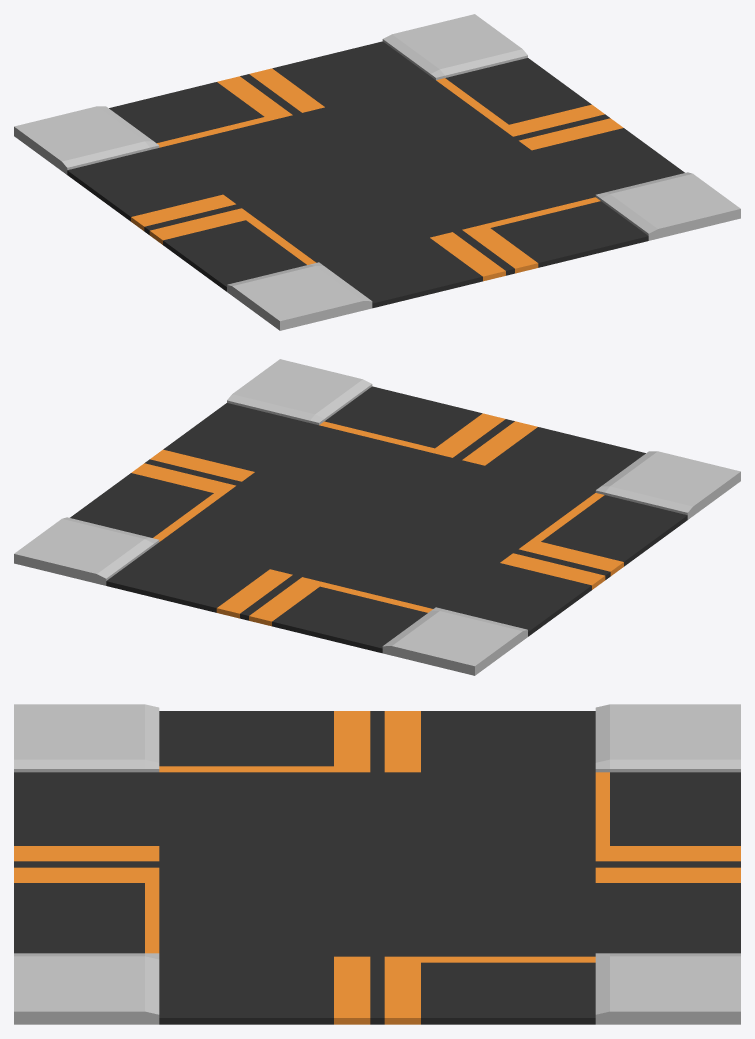
Rendered from Road_FourWay.fbx.
3 views of the same model, one above another, from view 1: azimuth 30°, elevation 25°; view 2: azimuth 150°, elevation 25°; view 3: azimuth 270°, elevation 25° (orthographic). The views are drawn at different scales.
Parts seen in each view (by area): view 1: FourWay; view 2: FourWay; view 3: FourWay.
Part boxes in pixels (x1,y1,x2,y2): FourWay: (14,14,740,330); FourWay: (14,359,740,675); FourWay: (14,704,740,1024).
Size of the model in its own units: 100 by 2 by 100.
